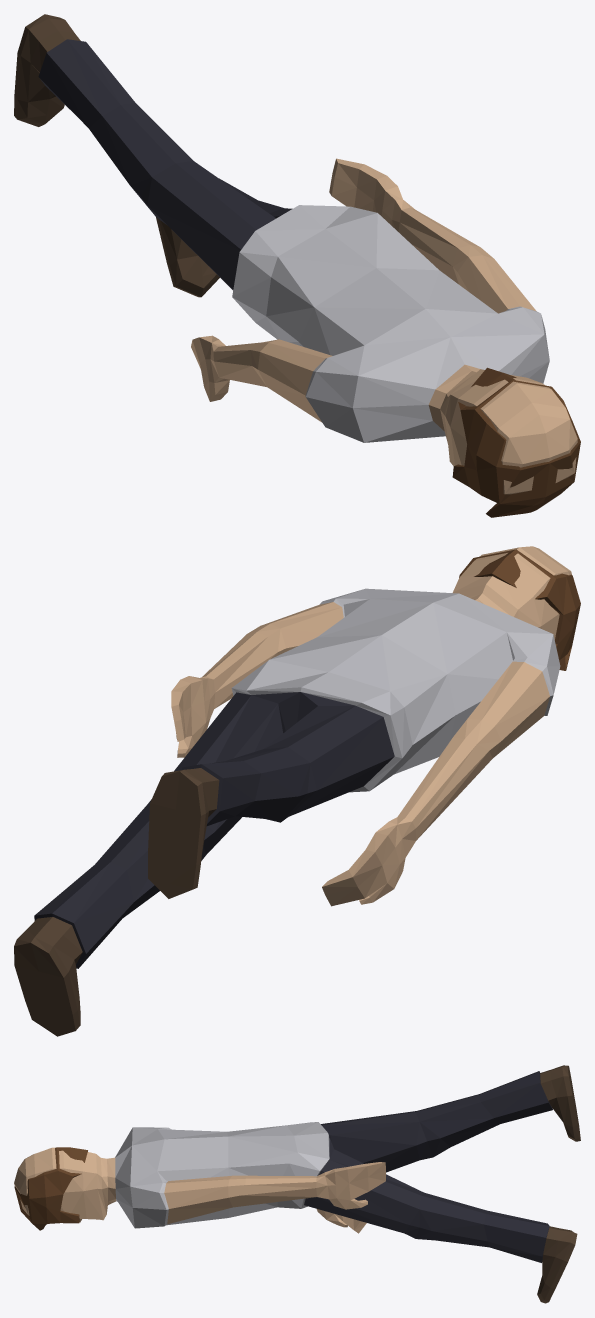
File: man-walking.obj
The picture shows the model from 3 angles, top to bottom: view 1: azimuth 30°, elevation 25°; view 2: azimuth 150°, elevation 25°; view 3: azimuth 270°, elevation 25°; orthographic projection. The views are drawn at different scales.
Parts seen in each view (by area): view 1: man-walking; view 2: man-walking; view 3: man-walking.
Boxes of the visible parts, x1,y1,x2,y2 form: man-walking: [14, 14, 580, 517]; man-walking: [14, 546, 580, 1036]; man-walking: [14, 1065, 580, 1303].
Bounding box in the file's own units: 22.48 × 26.95 × 70.98.
